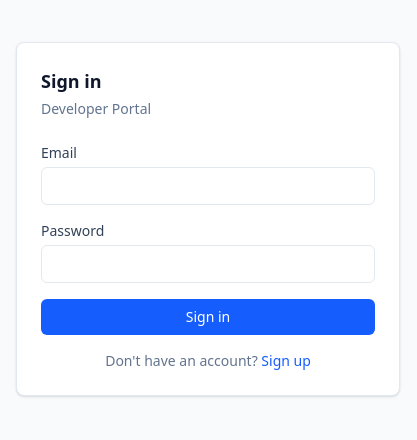
it: AuthPage › surfaces the provider error message on failure
This screenshot has width=417, height=440.
Type "dev@example.com" into the field labelled "Email" at (208, 186), box [41, 167, 375, 205]
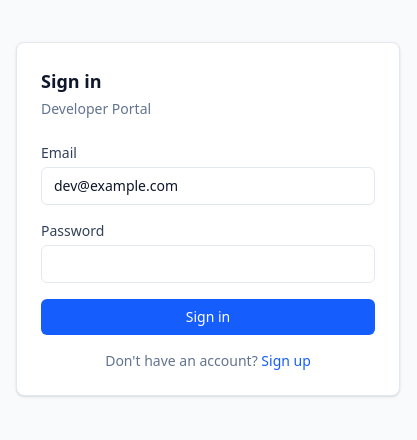
Type "password1" into the password field labelled "Password" at (208, 264), box [41, 245, 375, 283]
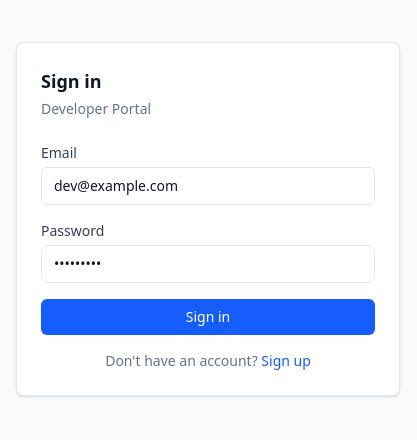
Click the button "Sign in" at (208, 317), box [41, 299, 375, 335]
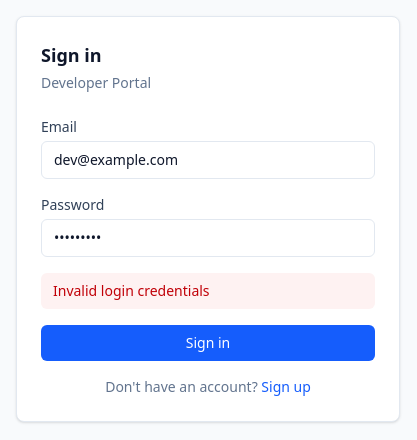
Expected: the text "Invalid login credentials" is shown, [41, 273, 375, 309]
